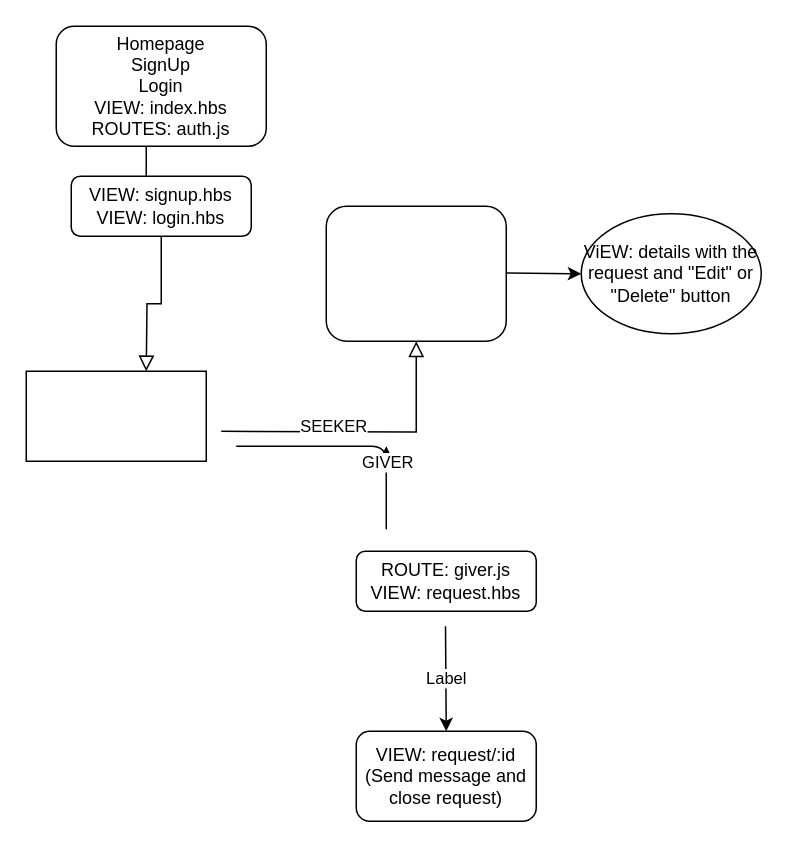
The diagram is 788 pixels wide and 848 high, and some of its shapes have lost their labels. The box of each missing label's shape, as (x1, y1, x2, y2) in pixels:
ROUTE: request.js VIEW: request.hbs In the view we show the form: (325, 205, 506, 341)
VIEW: home.hbs We show "Look for Help" or "Offer help": (25, 370, 206, 461)
